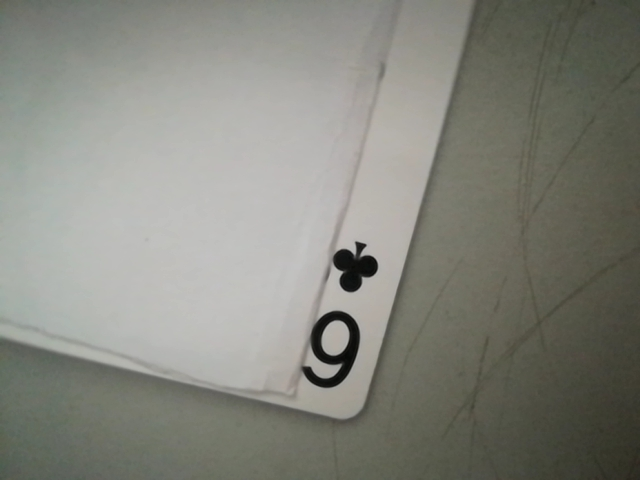mh 6: (293, 234, 389, 404)
